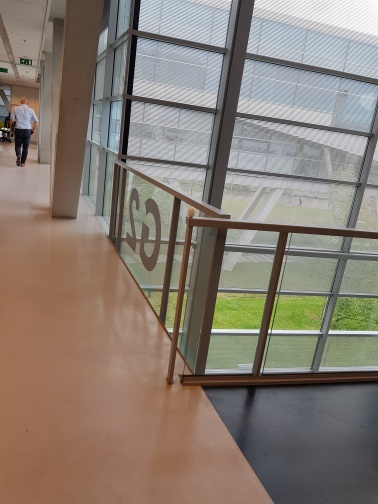egg: (186, 204, 198, 220)
